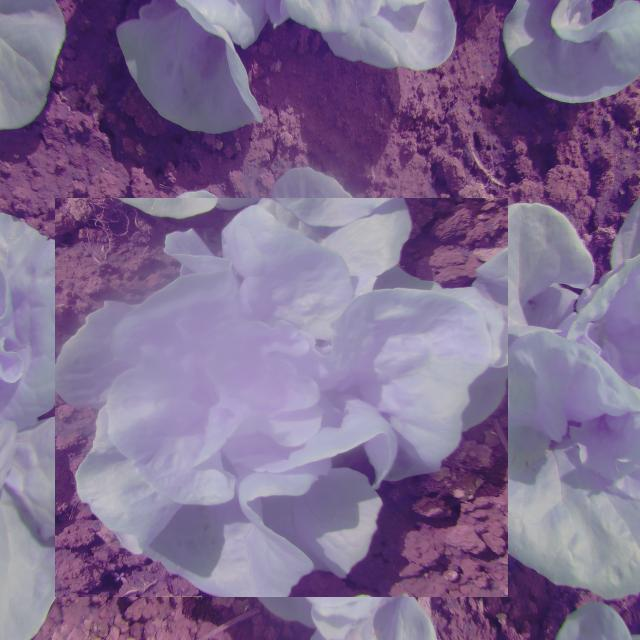vege: (68, 184, 495, 610)
